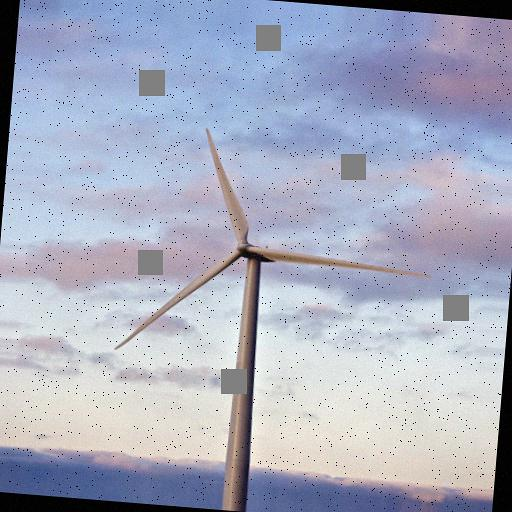wind turbine: (113, 126, 433, 500)
